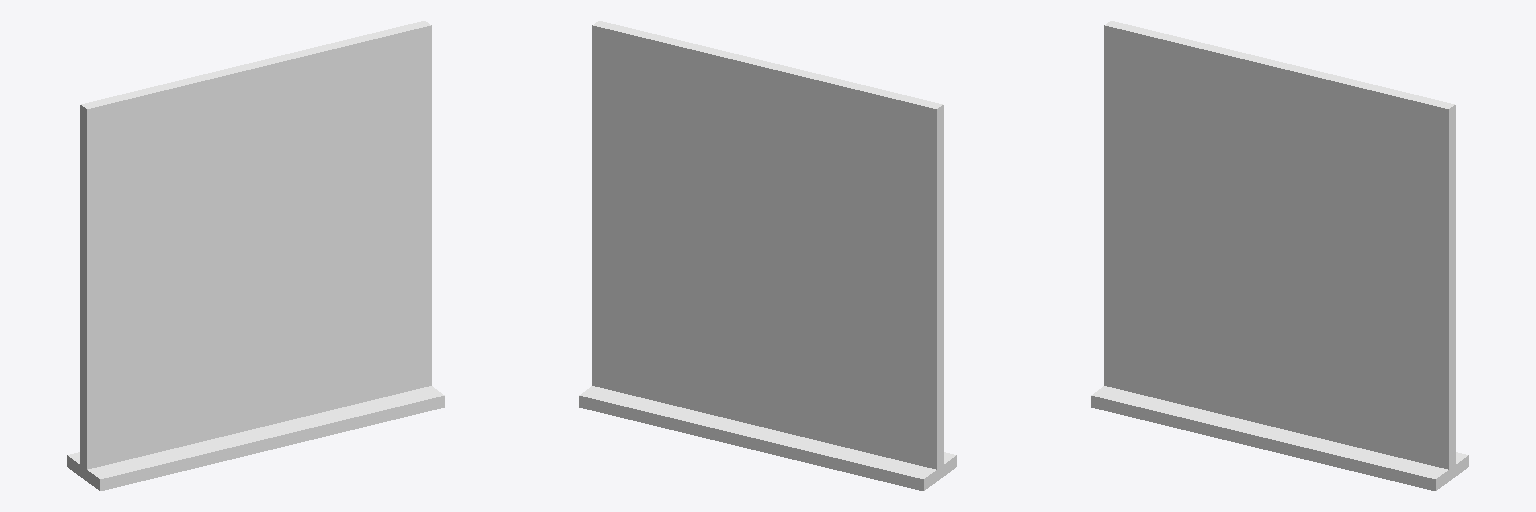
URDF robot description (forest_wall_5):
<?xml version="1.0" encoding="utf-8"?>
<!-- This URDF was automatically created by SolidWorks to URDF Exporter! Originally created by Stephen Brawner (brawner@gmail.com) 
     Commit Version: 1.6.0-4-g7f85cfe  Build Version: 1.6.7995.38578
     For more information, please see http://wiki.ros.org/sw_urdf_exporter -->
<robot
  name="forest_wall_5">
  <link
    name="base_link">
    <inertial>
      <origin
        xyz="-2.64338815386942E-18 6.2672693795586E-18 -0.221428571428572"
        rpy="0 0 0" />
      <mass
        value="1050" />
      <inertia
        ixx="987.892857142857"
        ixy="6.80011602582909E-15"
        ixz="1.60070369657563E-13"
        iyy="1771.51785714286"
        iyz="-3.10445764767254E-14"
        izz="791.375" />
    </inertial>
    <visual>
      <origin
        xyz="0 0 0"
        rpy="0 0 0" />
      <geometry>
        <mesh
          filename="package://emnv_scene/urdf_models/forest_wall_5/meshes/forest_wall_5.STL" />
      </geometry>
      <material
        name="">
        <color
          rgba="1 1 1 1" />
      </material>
    </visual>
    <collision>
      <origin
        xyz="0 0 0"
        rpy="0 0 0" />
      <geometry>
        <mesh
          filename="package://emnv_scene/urdf_models/forest_wall_5/meshes/forest_wall_5.STL" />
      </geometry>
    </collision>
  </link>
</robot>

--- Render facts (derived) ---
Views: 3 orthographic renders of the robot side by side, from view 1: azimuth 30°, elevation 25°; view 2: azimuth 150°, elevation 25°; view 3: azimuth 330°, elevation 25°.
Model forest_wall_5 with 1 links and 0 joints (none), rooted at base_link, posed every joint at zero.
Visible links, largest first — view 1: base_link; view 2: base_link; view 3: base_link.
Boxes of the visible links, x1,y1,x2,y2 form: base_link: (67, 21, 444, 490); base_link: (579, 21, 956, 490); base_link: (1091, 21, 1468, 490).
Bounding box of the posed robot: 3 × 0.5 × 3.1 m (x, y, z).
Meshes: 1 distinct files referenced, 1 mesh visuals loaded (1 binary STL).
